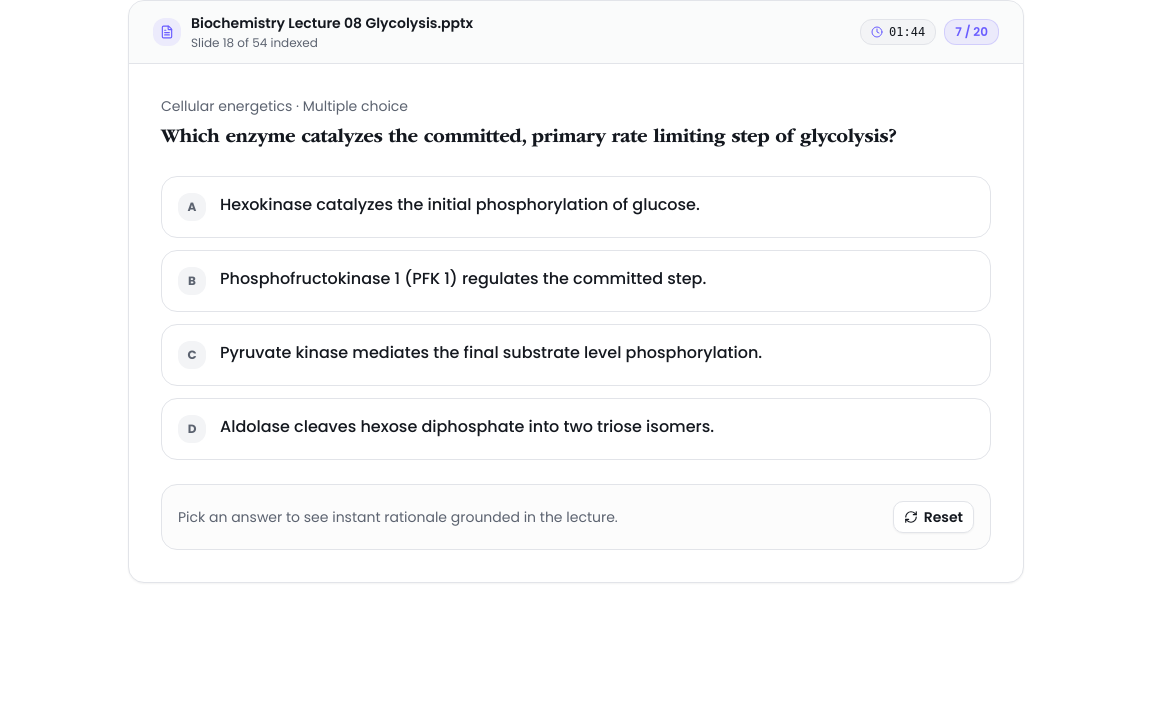
it: InteractiveExamPreview › renders the glycolysis sample question and reveals rationale on select
Expected: the heading "Which enzyme catalyzes the committed, primary rate limiting step of glycolysis" is shown, [161,128,896,148]
Click the 2nd radio button at [576, 281], box [161,250,991,312]
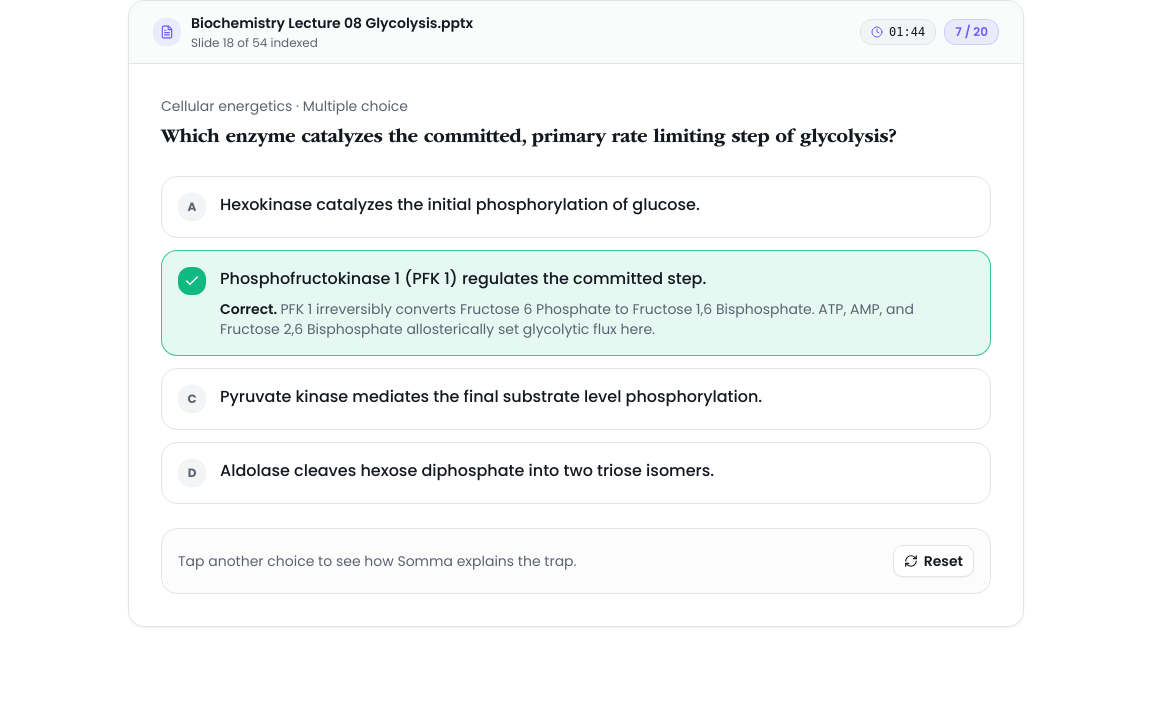
Now the text "Correct." is shown, box [220,299,280,319]
Now the text "Fructose 1,6 Bisphosphate" is shown, box [220,299,914,339]
